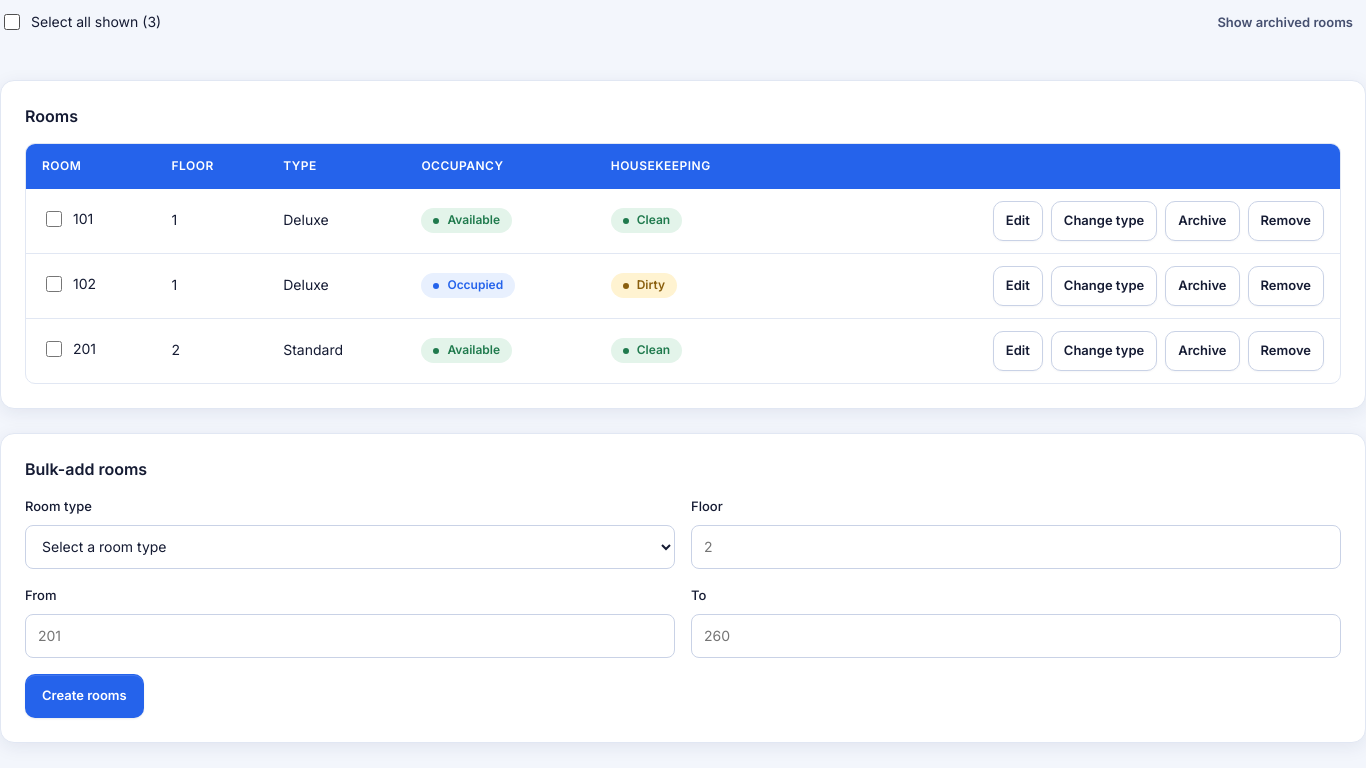
Test case: <RoomsTab> › managing rooms after creation › change type › shows every blocked room with the server's own sentence, says nothing was changed, and KEEPS the selection
The width and height of the screenshot is (1366, 768).
Expected: the text "101" is shown, [42, 208, 93, 230]
Click the checkbox named "Select all shown rooms" at (12, 22), box [4, 14, 20, 30]
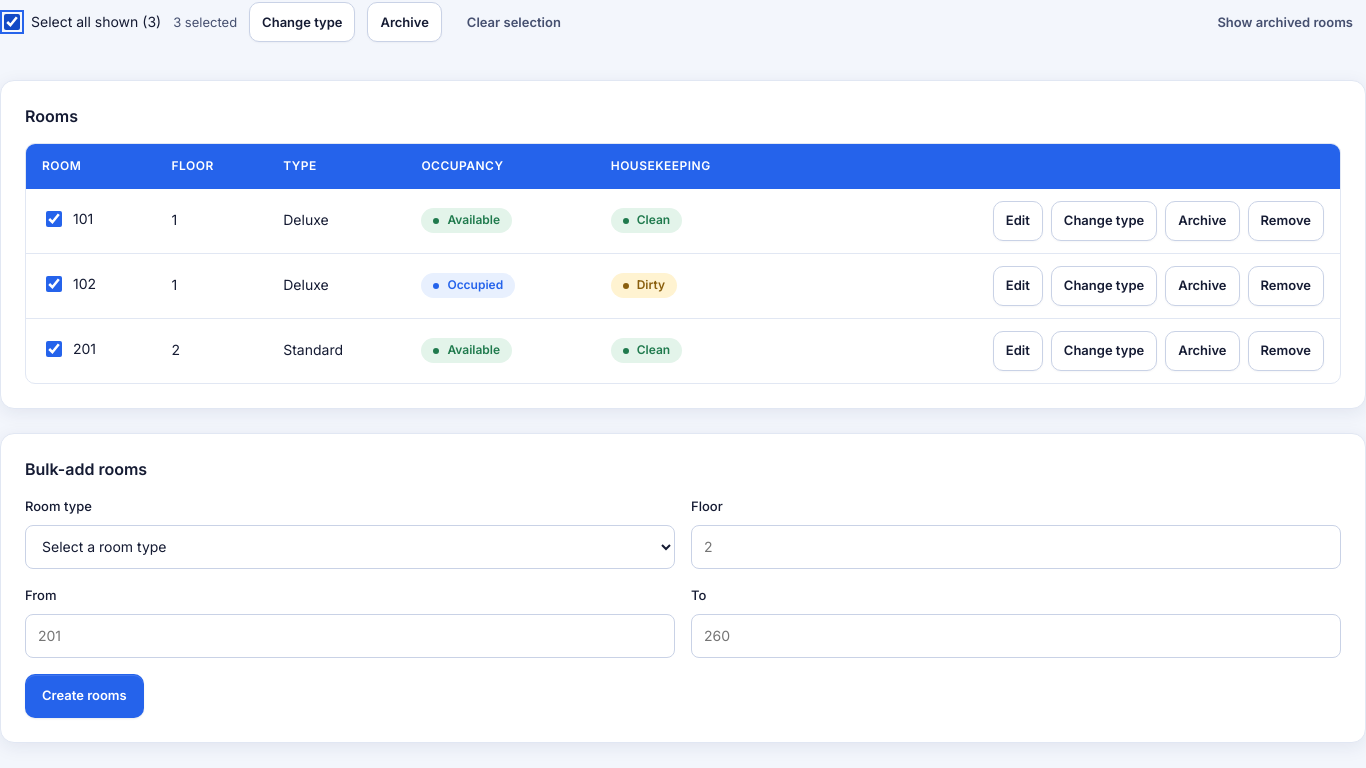
Click the button "Change type" next to "selected" at (302, 22), box [249, 2, 356, 42]
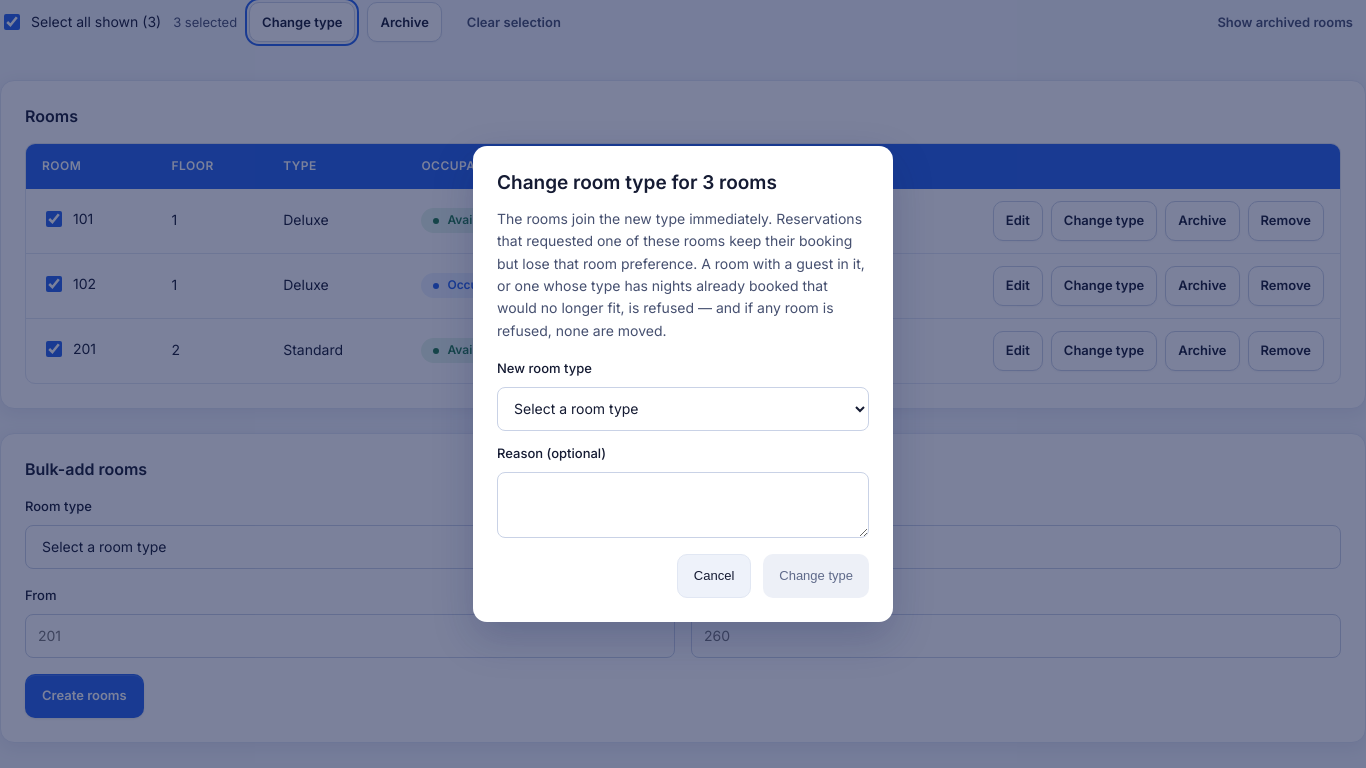
Select "Standard (STD)" in the dropdown labelled "New room type" at (683, 409), box [497, 387, 869, 431]
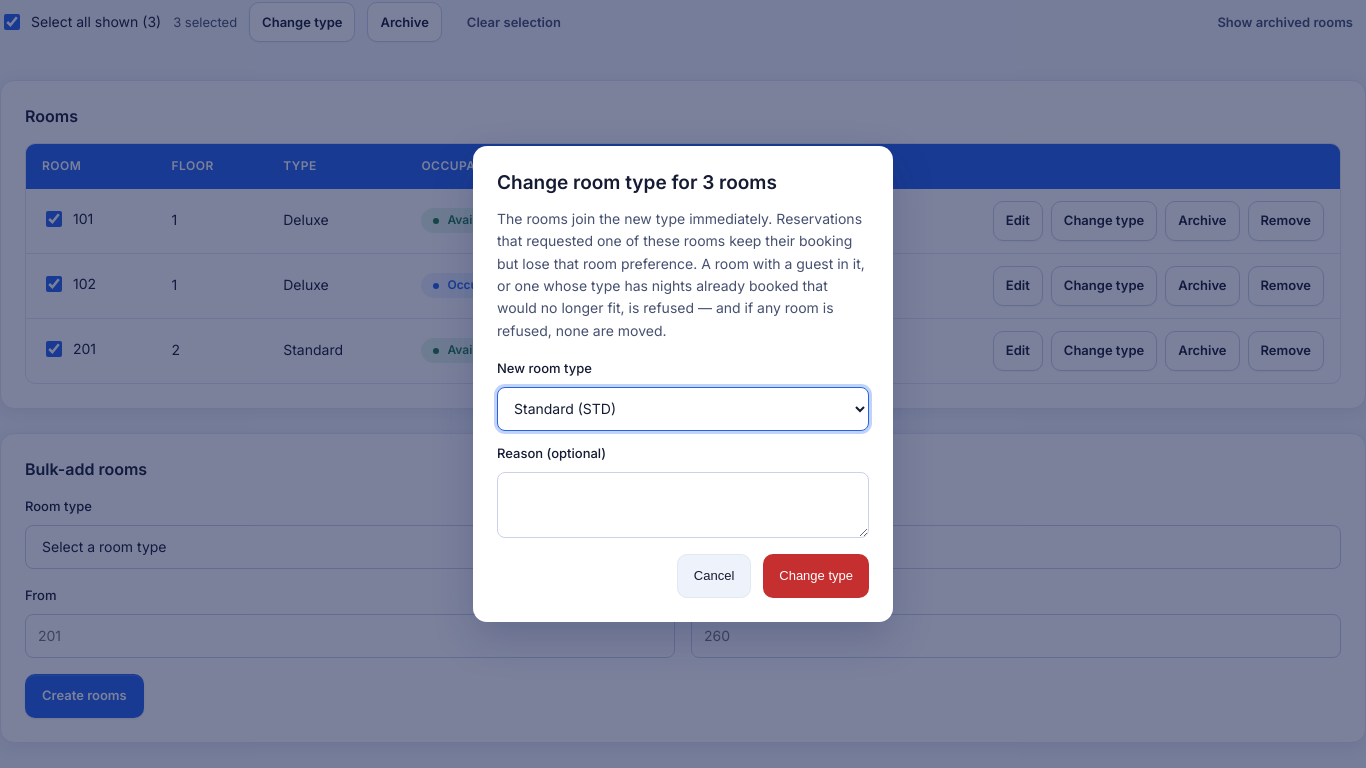
Click the button "Change type" at (816, 576), box [763, 554, 869, 598]
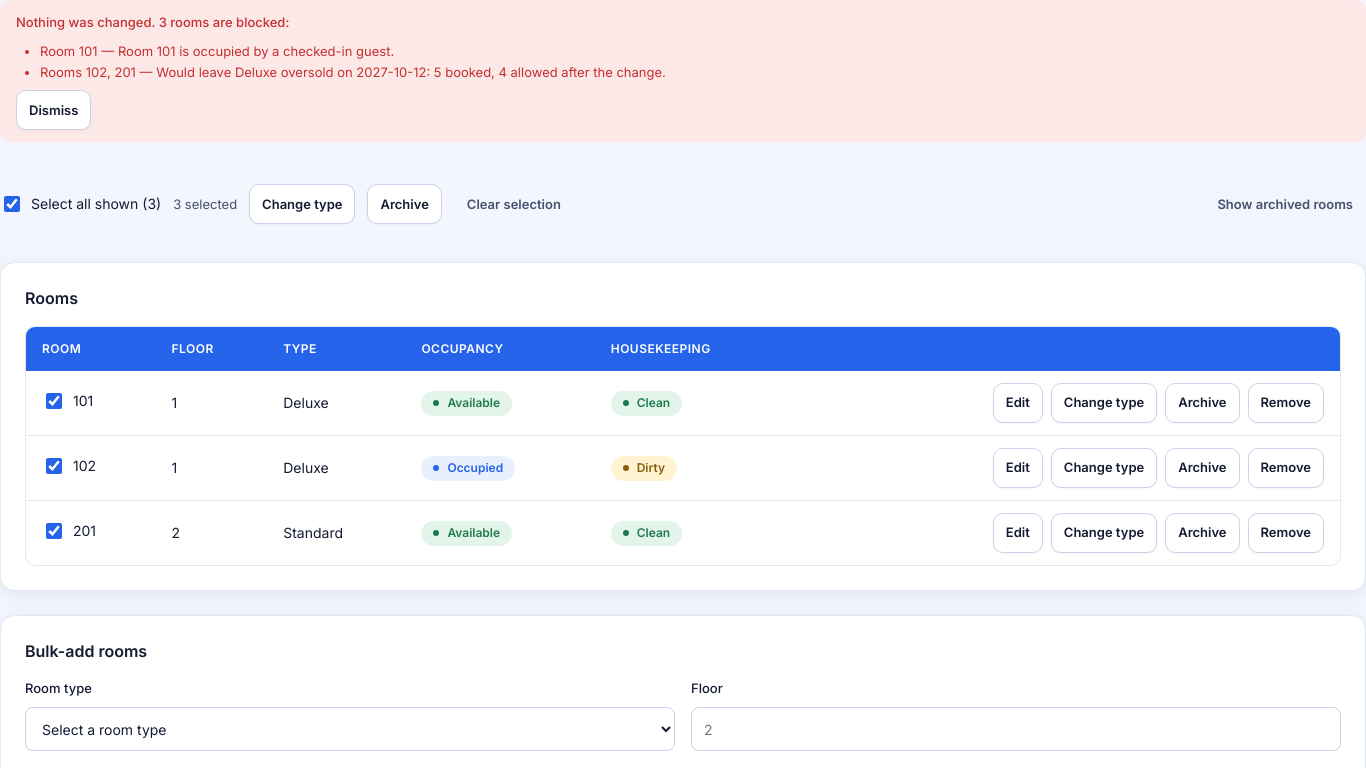
Now the message shows "Nothing was changed. 3 rooms are blocked:", box [0, 0, 1365, 142]
Now the message shows "Room 101 — Room 101 is occupied by a checked-in guest.", box [0, 0, 1365, 142]
Now the message shows "Rooms 102, 201 — Would leave Deluxe oversold", box [0, 0, 1365, 142]
Click the button "Dismiss" at (54, 110), box [16, 90, 91, 130]
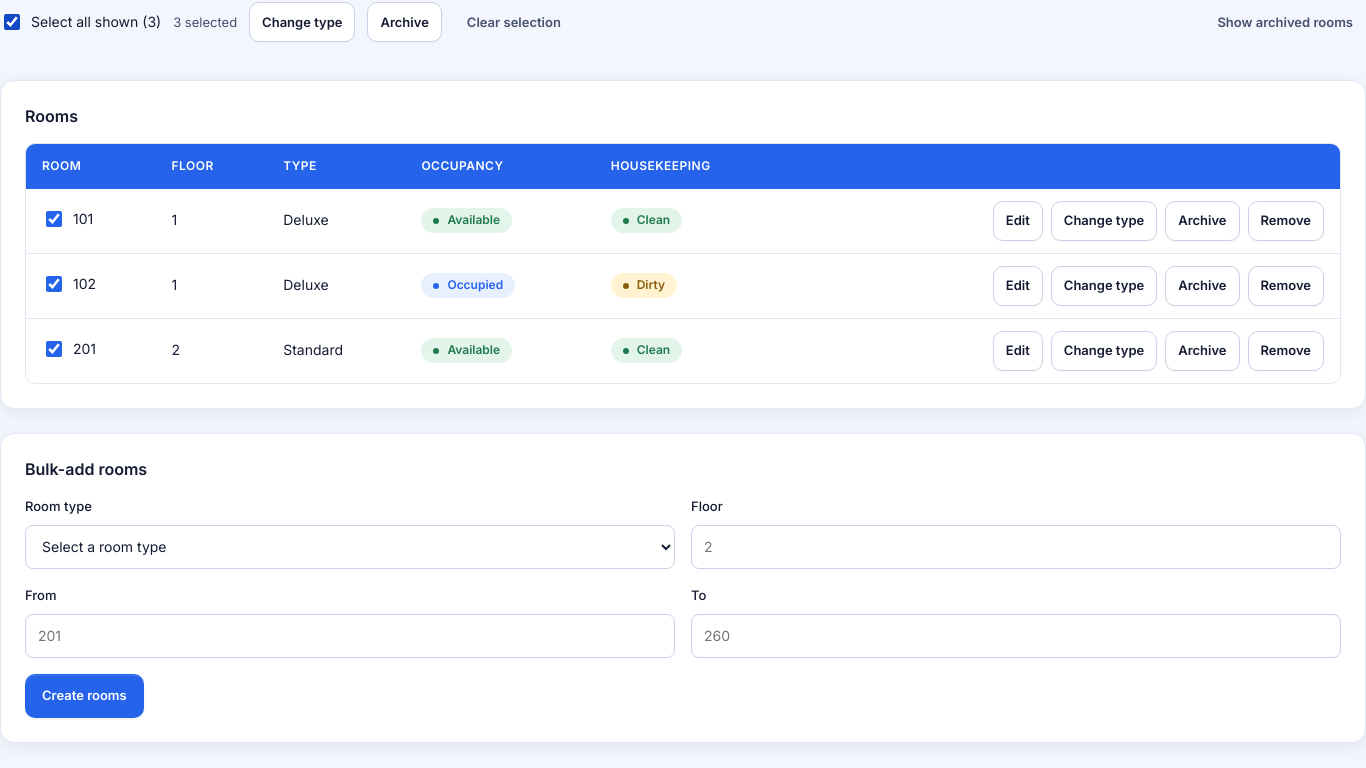
Now the text "Nothing was changed" is gone
